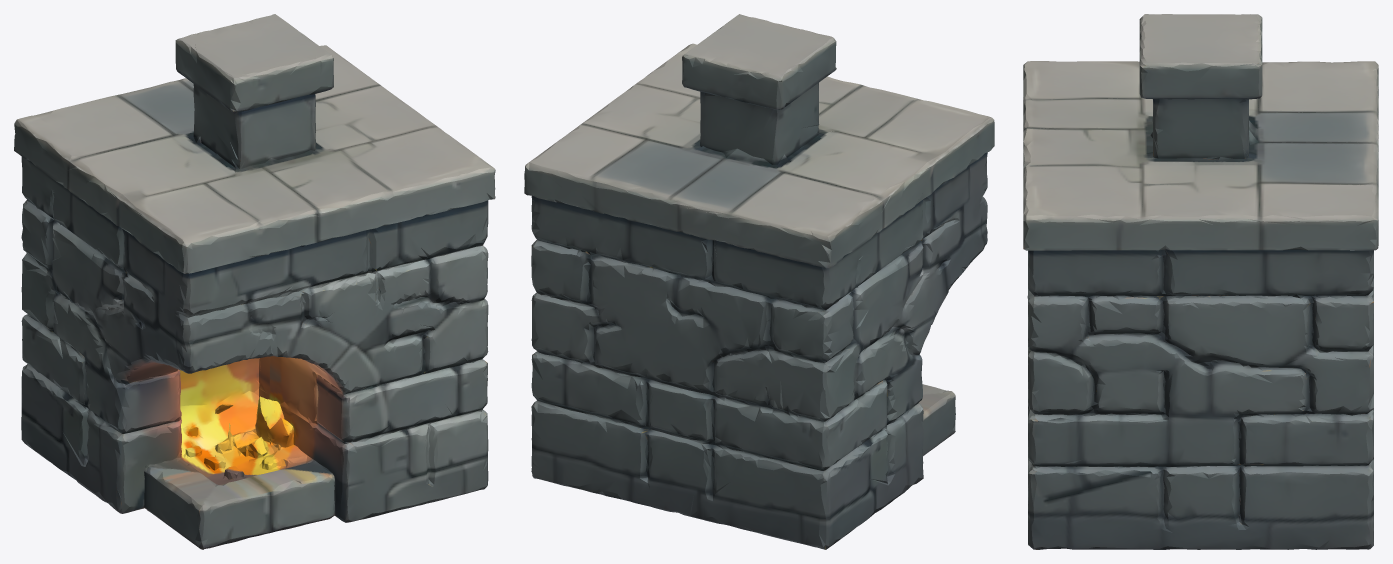
3 renders of one model, left to right at view 1: azimuth 30°, elevation 25°; view 2: azimuth 150°, elevation 25°; view 3: azimuth 270°, elevation 25°, orthographic. The views are drawn at different scales.
Parts seen in each view (by area): view 1: 62; view 2: 62; view 3: 62.
Boxes of the visible parts, x1,y1,x2,y2 form: 62: (14, 14, 495, 549); 62: (524, 14, 994, 549); 62: (1023, 14, 1378, 549).
Bounding box in the file's own units: 1.33 × 1.7 × 1.26.
1 material, 1 textured.
